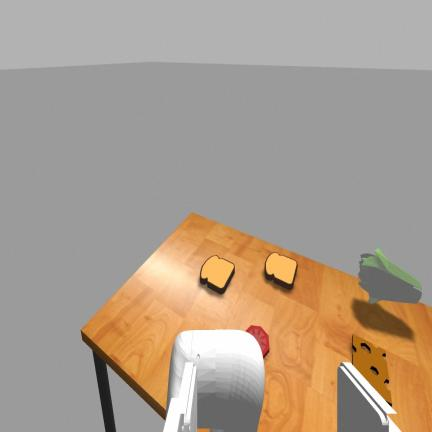cheese: (352, 335, 391, 406)
lettuce: (358, 248, 422, 303)
sliced_bread: (200, 256, 235, 293), (265, 252, 297, 289)
sliced_tomato: (247, 325, 269, 357)
